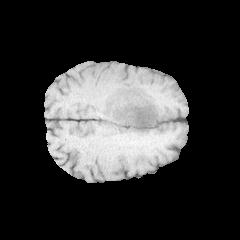glioma: (100, 84, 172, 136)
